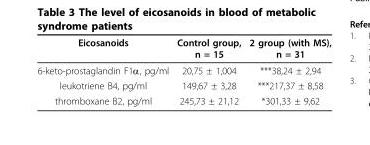table: (36, 36, 330, 105)
table column: (36, 36, 172, 105), (244, 36, 330, 105), (172, 36, 244, 105)
table column header: (36, 36, 330, 61)
table row: (36, 36, 330, 61), (36, 61, 330, 77), (36, 77, 330, 92), (36, 92, 330, 105)
